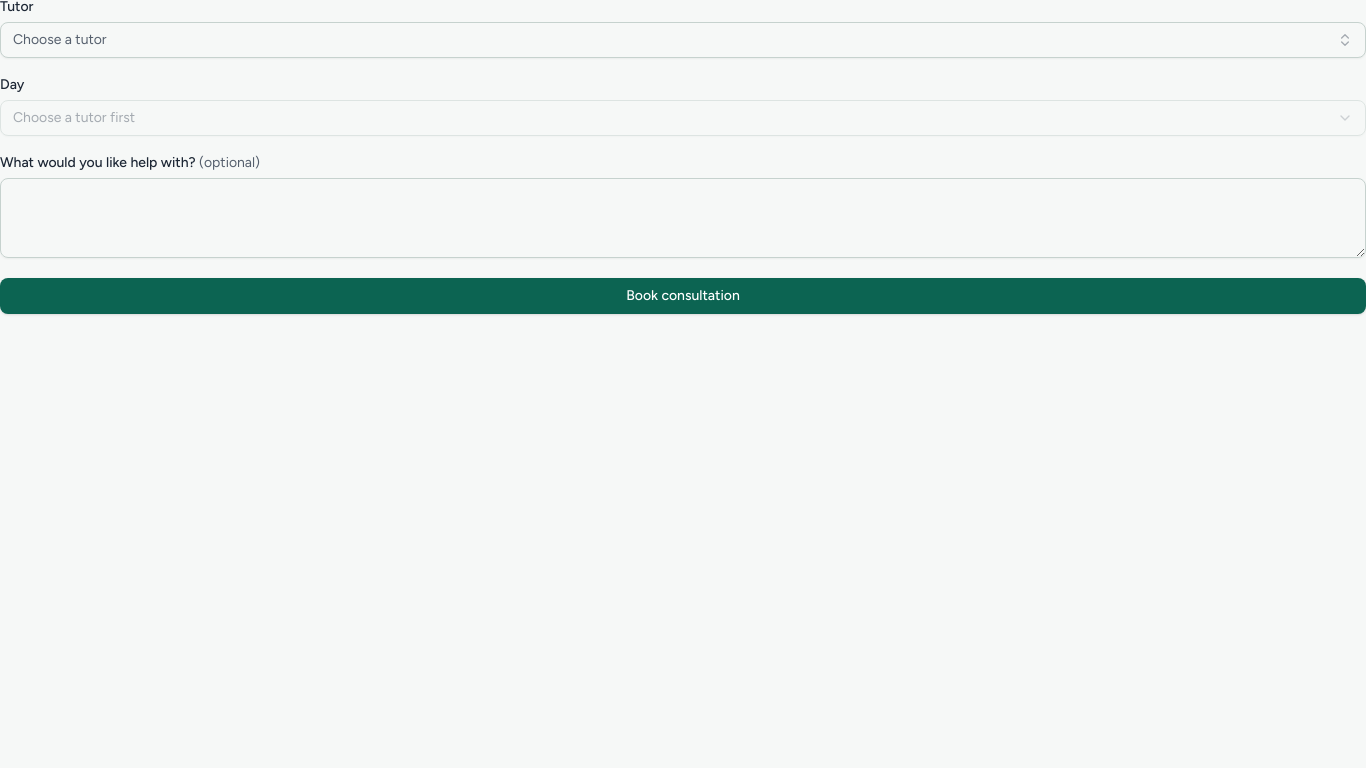
Test: after submitting › says the slot was just taken, clears it, and shows what is free now
Click the dropdown labelled "tutor": point(60, 40) 0,22 -> 1365,58
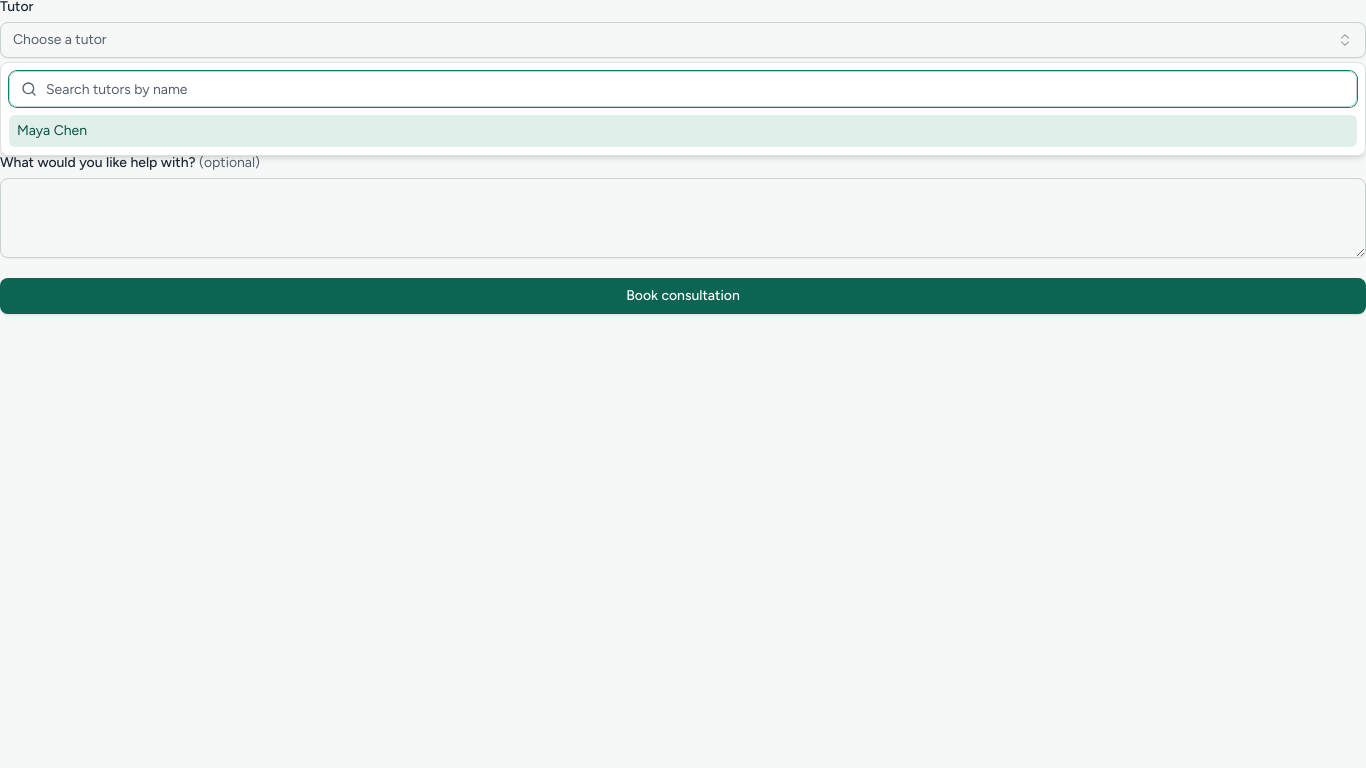
Click the option "Maya Chen": point(52, 130) 9,115 -> 1357,147
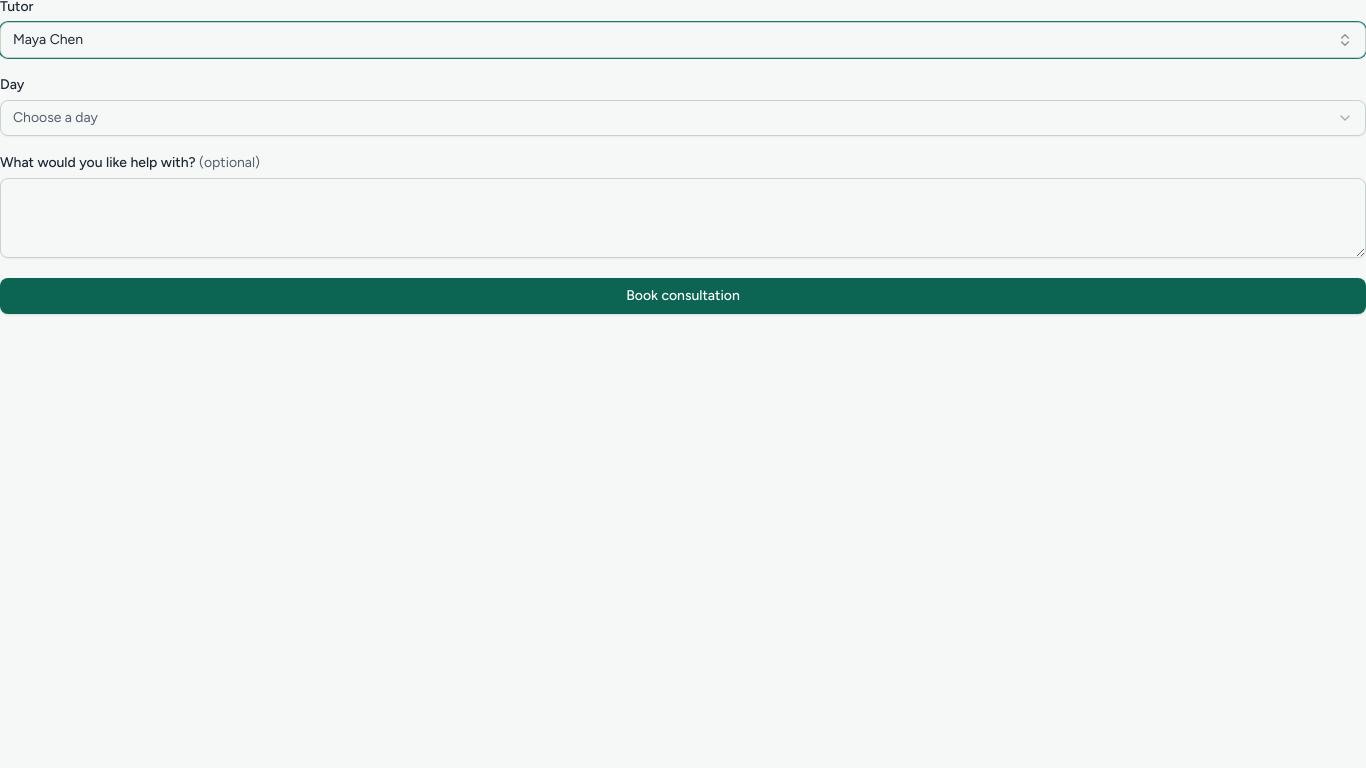
Click the dropdown labelled "day": point(55, 118) 0,100 -> 1365,136
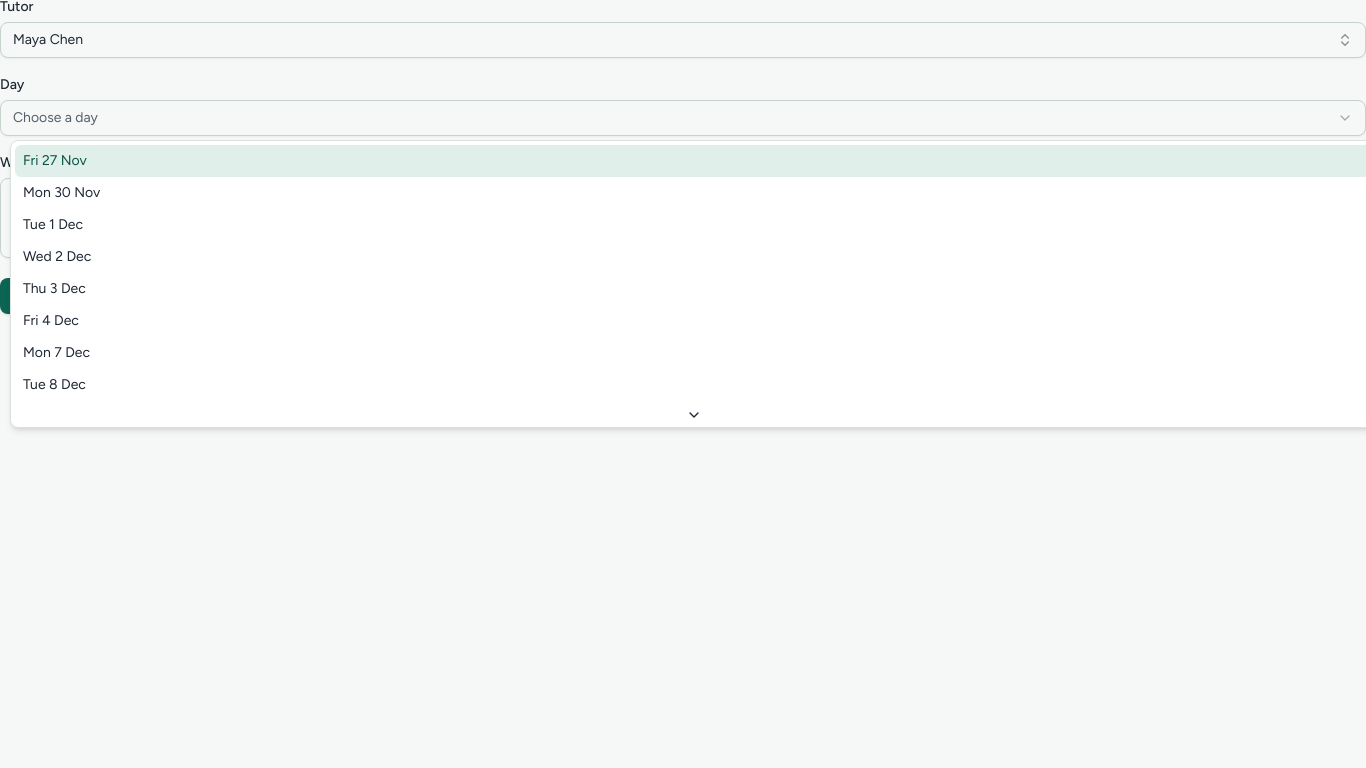
Click the option "Mon 30 Nov": point(62, 192) 23,184 -> 100,201
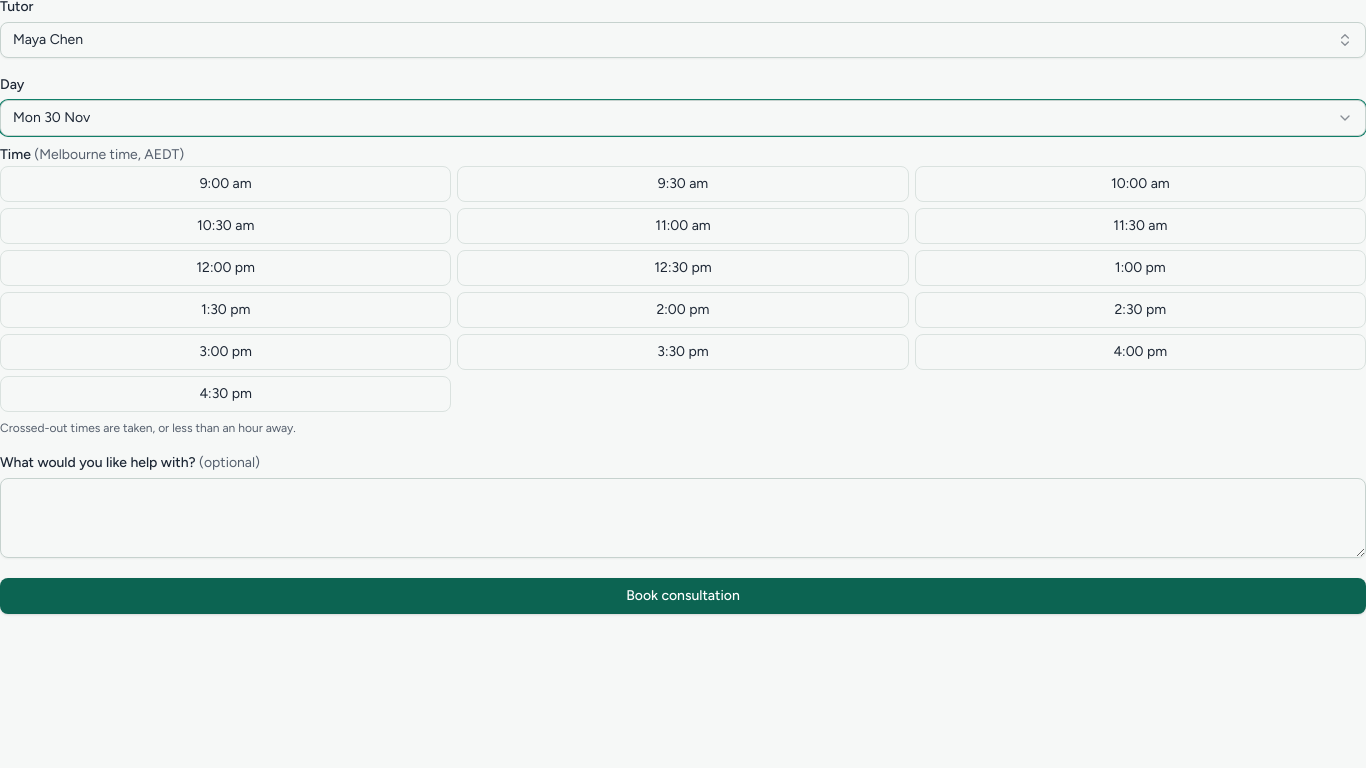
Now the radio button labelled "10:30 am" is enabled
Click the radio button labelled "10:30 am": point(226, 226) 0,208 -> 451,244
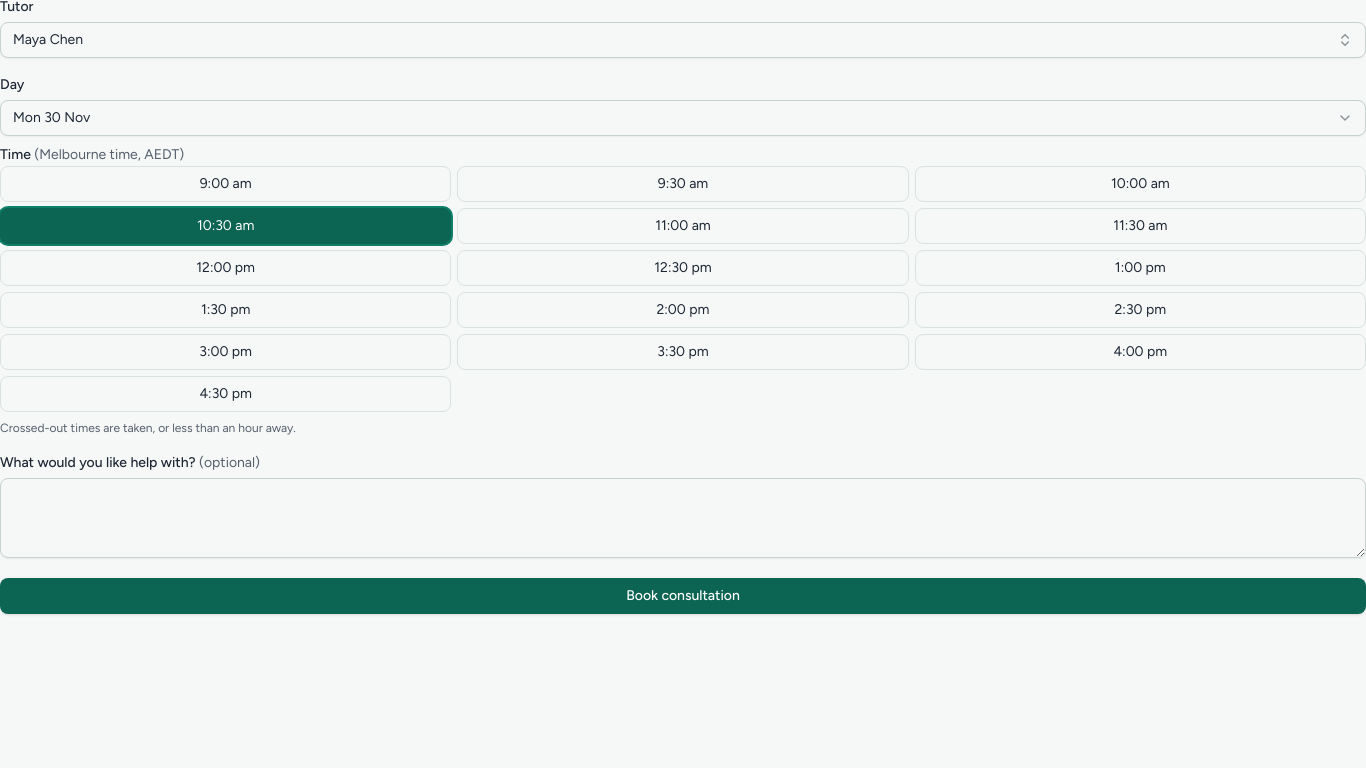
Click the button "Book consultation": point(683, 596) 0,578 -> 1365,614
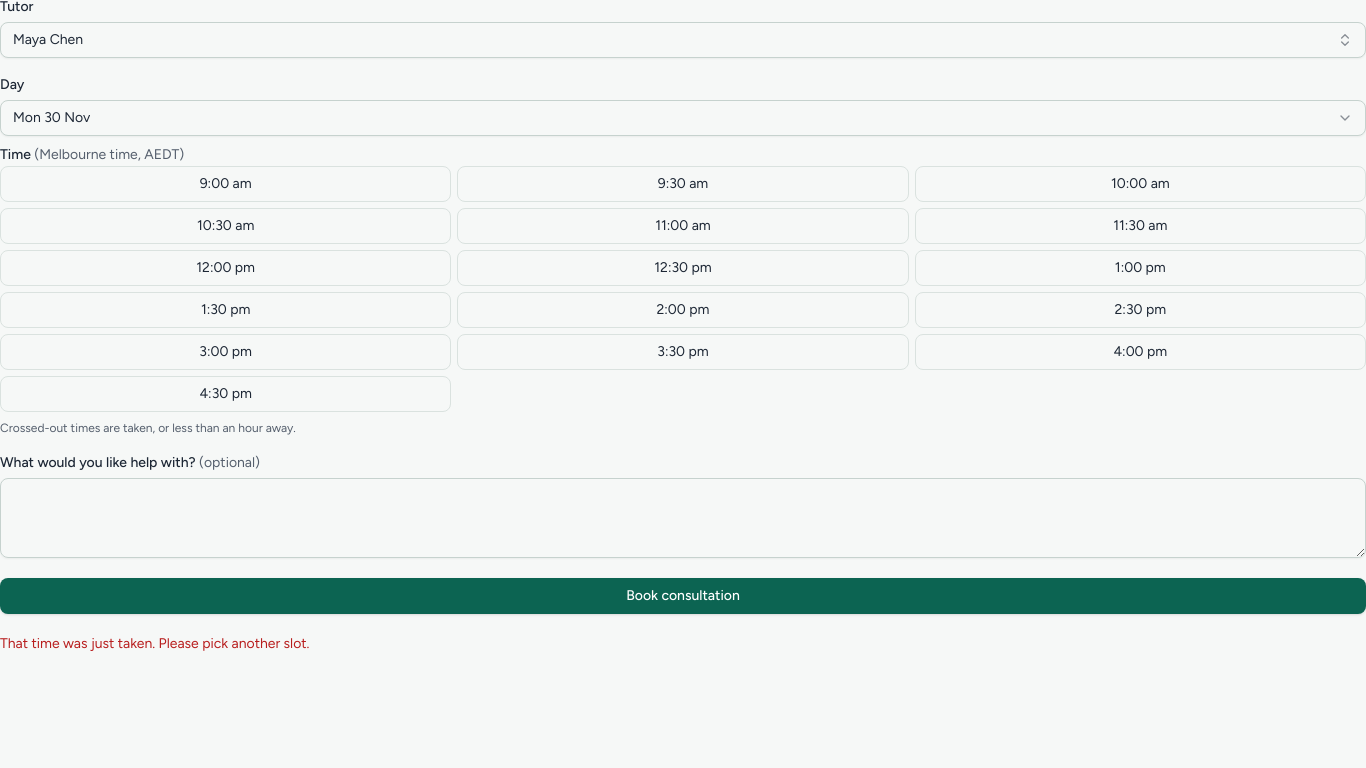
Now the radio button labelled "10:30 am" is not checked, box 0,208 -> 451,244
Now the text "That time was just taken. Please pick another slot." is shown, box 0,635 -> 310,652
